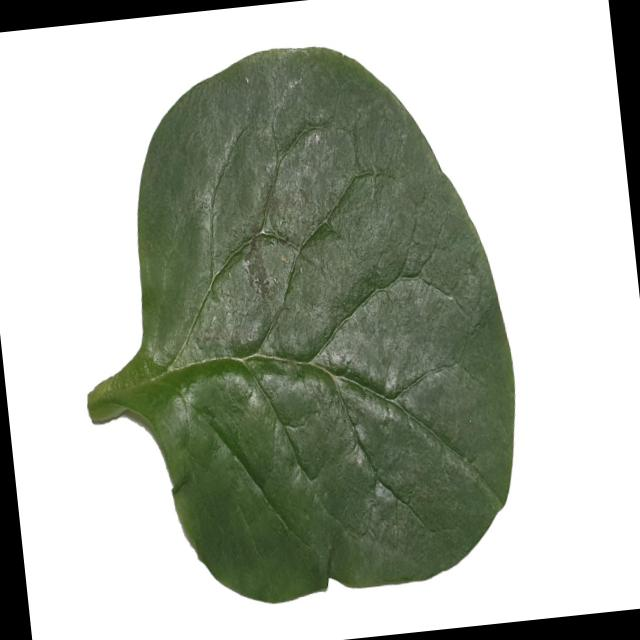Medicinal-Basale: (54, 24, 533, 624)
